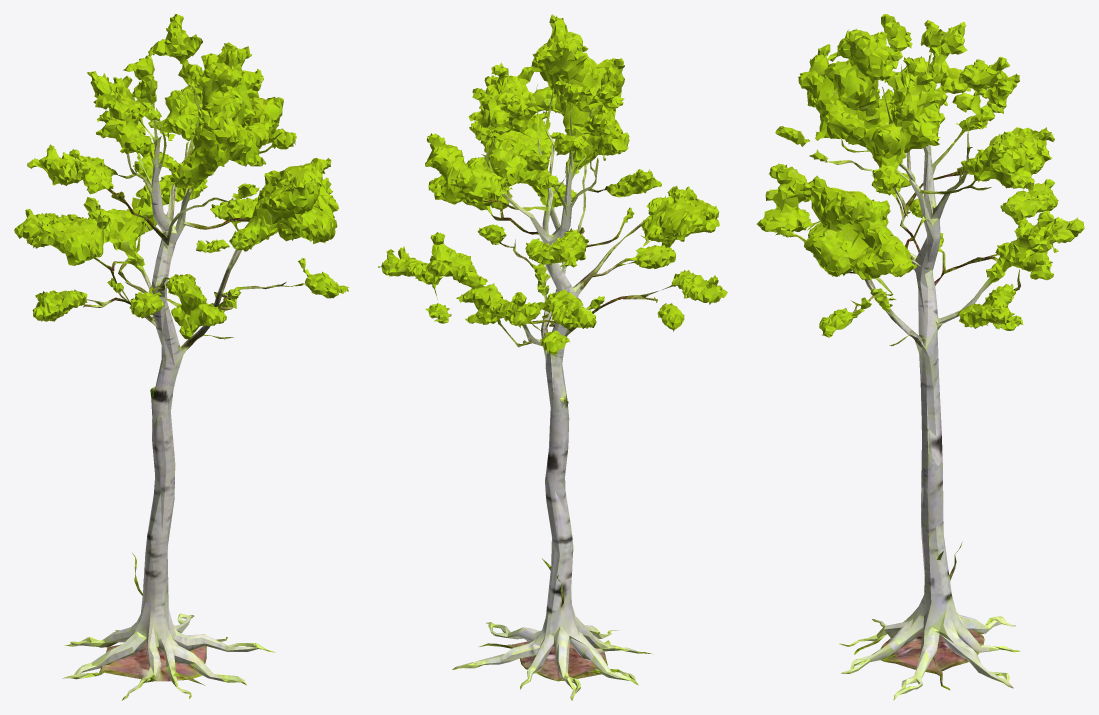
File: tree-birch-b.glb
3 views of the same model, side by side, from view 1: azimuth 30°, elevation 25°; view 2: azimuth 150°, elevation 25°; view 3: azimuth 270°, elevation 25° (orthographic). The views are drawn at different scales.
Parts seen in each view (by area): view 1: output_unwrapped; view 2: output_unwrapped; view 3: output_unwrapped.
Part boxes in pixels (x1,y1,x2,y2): output_unwrapped: (14, 14, 349, 700); output_unwrapped: (378, 14, 727, 700); output_unwrapped: (756, 14, 1084, 700).
Size of the model in its own units: 5.02 by 9.98 by 4.61.
1 material, 1 textured.
